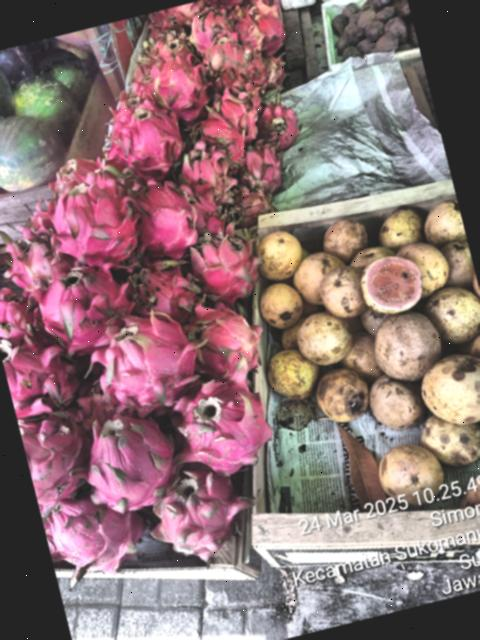buah-naga-matang: (65, 402, 184, 518), (85, 309, 208, 417), (164, 366, 282, 476), (22, 247, 143, 354), (148, 463, 265, 569), (43, 479, 152, 582), (48, 170, 144, 274), (176, 289, 272, 392), (0, 318, 87, 419), (113, 238, 206, 328), (19, 410, 103, 507), (124, 169, 206, 265), (127, 31, 213, 122), (184, 226, 272, 314), (106, 89, 192, 174), (193, 106, 257, 175), (0, 218, 61, 289), (204, 85, 268, 145), (173, 149, 236, 206), (239, 145, 296, 205), (253, 96, 308, 152), (196, 192, 251, 240), (201, 30, 251, 77), (43, 152, 102, 190), (186, 5, 234, 50), (0, 282, 38, 337), (258, 50, 294, 91), (255, 12, 288, 56), (112, 85, 156, 116)
